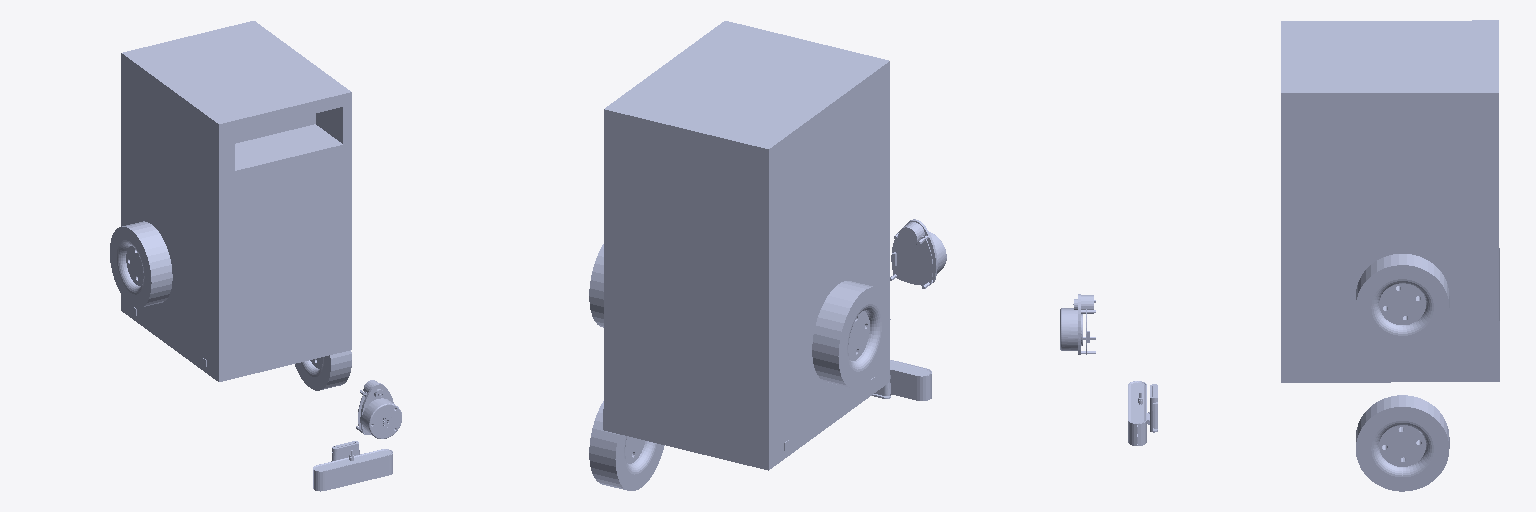
The robot description file, URDF, robot "my_urdf":
<?xml version="1.0" encoding="utf-8"?>
<!-- This URDF was automatically created by SolidWorks to URDF Exporter! Originally created by Stephen Brawner (brawner@gmail.com) 
     Commit Version: 1.6.0-4-g7f85cfe  Build Version: 1.6.7995.38578
     For more information, please see http://wiki.ros.org/sw_urdf_exporter -->
<robot
  name="my_urdf">
  <link
    name="base_footprint">
    <inertial>
      <origin
        xyz="-0.000309087484210829 -0.231774623204699 0.00490440684986201"
        rpy="0 0 0" />
      <mass
        value="45.829187990473" />
      <inertia
        ixx="1.3247027895633"
        ixy="-0.00259104265884517"
        ixz="-0.00186845178508046"
        iyy="0.773725974976496"
        iyz="0.0411131993367175"
        izz="1.15594469557223" />
    </inertial>
    <visual>
      <origin
        xyz="0 0 0"
        rpy="-1.57 0 0" />
      <geometry>
        <mesh
          filename="package://my_urdf/meshes/base_footprint.STL" />
      </geometry>
      <material
        name="">
        <color
          rgba="0.792156862745098 0.819607843137255 0.933333333333333 1" />
      </material>
    </visual>
    <collision>
      <origin
        xyz="0 0 0"
        rpy="-1.57 0 0" />
      <geometry>
        <mesh
          filename="package://my_urdf/meshes/base_footprint.STL" />
      </geometry>
    </collision>
  </link>
  <link
    name="front_right_link">
    <inertial>
      <origin
        xyz="-0.000233568800549525 0.00388215224949372 0.219535415875818"
        rpy="0 0 0" />
      <mass
        value="48.9383586991974" />
      <inertia
        ixx="1.56913843574981"
        ixy="-0.00154016843274957"
        ixz="0.00211023847469076"
        iyy="1.44343461593917"
        iyz="-0.0373053138883436"
        izz="0.925134371309634" />
    </inertial>
    <visual>
      <origin
        xyz="0 0 0"
        rpy="0 0 0" />
      <geometry>
        <mesh
          filename="package://my_urdf/meshes/front_right_link.STL" />
      </geometry>
      <material
        name="">
        <color
          rgba="1 1 1 1" />
      </material>
    </visual>
    <collision>
      <origin
        xyz="0 0 0"
        rpy="0 0 0" />
      <geometry>
        <mesh
          filename="package://my_urdf/meshes/front_right_link.STL" />
      </geometry>
    </collision>
  </link>
  <joint
    name="front_right_joint"
    type="revolute">
    <origin
      xyz="0 0 0"
      rpy="1.5707963267949 0 0" />
    <parent
      link="base_footprint" />
    <child
      link="front_right_link" />
    <axis
      xyz="-1 0 0" />
    <limit
      lower="0"
      upper="0"
      effort="0"
      velocity="0" />
  </joint>
  <link
    name="back_right_link">
    <inertial>
      <origin
        xyz="-0.188595 0.127041605346971 -0.0204638010416092"
        rpy="0 0 0" />
      <mass
        value="0.672106314046843" />
      <inertia
        ixx="0.0022358710882711"
        ixy="1.18669985448161E-20"
        ixz="4.77668952557858E-22"
        iyy="0.00121366878208572"
        iyz="1.72224751499544E-07"
        izz="0.0012137080517682" />
    </inertial>
    <visual>
      <origin
        xyz="0 0 0"
        rpy="0 0 0" />
      <geometry>
        <mesh
          filename="package://my_urdf/meshes/back_right_link.STL" />
      </geometry>
      <material
        name="">
        <color
          rgba="0.792156862745098 0.819607843137255 0.933333333333333 1" />
      </material>
    </visual>
    <collision>
      <origin
        xyz="0 0 0"
        rpy="0 0 0" />
      <geometry>
        <mesh
          filename="package://my_urdf/meshes/back_right_link.STL" />
      </geometry>
    </collision>
  </link>
  <joint
    name="back_right_joint"
    type="revolute">
    <origin
      xyz="0 0 0"
      rpy="1.5707963267949 0 0" />
    <parent
      link="base_footprint" />
    <child
      link="back_right_link" />
    <axis
      xyz="1 0 0" />
    <limit
      lower="0"
      upper="0"
      effort="0"
      velocity="0" />
  </joint>
  <link
    name="back_left_link">
    <inertial>
      <origin
        xyz="0.188595 0.126968611638409 -0.0203013899175233"
        rpy="0 0 0" />
      <mass
        value="0.672106314046843" />
      <inertia
        ixx="0.0022358710882711"
        ixy="-1.47749794835115E-20"
        ixz="-5.08498084480825E-21"
        iyy="0.001213728039212"
        iyz="-1.68751197173603E-07"
        izz="0.00121364879464192" />
    </inertial>
    <visual>
      <origin
        xyz="0 0 0"
        rpy="0 0 0" />
      <geometry>
        <mesh
          filename="package://my_urdf/meshes/back_left_link.STL" />
      </geometry>
      <material
        name="">
        <color
          rgba="0.792156862745098 0.819607843137255 0.933333333333333 1" />
      </material>
    </visual>
    <collision>
      <origin
        xyz="0 0 0"
        rpy="0 0 0" />
      <geometry>
        <mesh
          filename="package://my_urdf/meshes/back_left_link.STL" />
      </geometry>
    </collision>
  </link>
  <joint
    name="back_left_joint"
    type="revolute">
    <origin
      xyz="0 0 0"
      rpy="1.5707963267949 0 0" />
    <parent
      link="base_footprint" />
    <child
      link="back_left_link" />
    <axis
      xyz="1 0 0" />
    <limit
      lower="0"
      upper="0"
      effort="0"
      velocity="0" />
  </joint>
  <link
    name="front_left_link">
    <inertial>
      <origin
        xyz="0.188595 -0.127032541922988 -0.0202995473440542"
        rpy="0 0 0" />
      <mass
        value="0.672106314046843" />
      <inertia
        ixx="0.0022358710882711"
        ixy="-7.01375136593397E-22"
        ixz="-1.64781567191005E-20"
        iyy="0.00121367321204965"
        iyz="-1.72672243645025E-07"
        izz="0.00121370362180427" />
    </inertial>
    <visual>
      <origin
        xyz="0 0 0"
        rpy="0 0 0" />
      <geometry>
        <mesh
          filename="package://my_urdf/meshes/front_left_link.STL" />
      </geometry>
      <material
        name="">
        <color
          rgba="0.792156862745098 0.819607843137255 0.933333333333333 1" />
      </material>
    </visual>
    <collision>
      <origin
        xyz="0 0 0"
        rpy="0 0 0" />
      <geometry>
        <mesh
          filename="package://my_urdf/meshes/front_left_link.STL" />
      </geometry>
    </collision>
  </link>
  <joint
    name="front_left_joint"
    type="revolute">
    <origin
      xyz="0 0 0"
      rpy="1.5707963267949 0 0" />
    <parent
      link="base_footprint" />
    <child
      link="front_left_link" />
    <axis
      xyz="1 0 0" />
    <limit
      lower="0"
      upper="0"
      effort="0"
      velocity="0" />
  </joint>
  <link
    name="base_laser">
    <inertial>
      <origin
        xyz="0.00548449682867642 -0.00227401415844783 0.513423127732833"
        rpy="0 0 0" />
      <mass
        value="0.170611427740059" />
      <inertia
        ixx="0.000123166325080503"
        ixy="1.02818502430435E-07"
        ixz="3.96362803317277E-07"
        iyy="7.88356333895355E-05"
        iyz="2.02875674243666E-05"
        izz="0.00014078871798285" />
    </inertial>
    <visual>
      <origin
        xyz="0 0 0"
        rpy="0 0 0" />
      <geometry>
        <mesh
          filename="package://my_urdf/meshes/base_laser.STL" />
      </geometry>
      <material
        name="">
        <color
          rgba="0.792156862745098 0.819607843137255 0.933333333333333 1" />
      </material>
    </visual>
    <collision>
      <origin
        xyz="0 0 0"
        rpy="0 0 0" />
      <geometry>
        <mesh
          filename="package://my_urdf/meshes/base_laser.STL" />
      </geometry>
    </collision>
  </link>
  <joint
    name="baser_laser_joint"
    type="fixed">
    <origin
      xyz="0 0 0"
      rpy="1.5707963267949 0 0" />
    <parent
      link="base_footprint" />
    <child
      link="base_laser" />
    <axis
      xyz="0 0 0" />
  </joint>
  <link
    name="base_camera">
    <inertial>
      <origin
        xyz="0.00816075461061211 -0.156095902491559 0.405890121378547"
        rpy="0 0 0" />
      <mass
        value="0.220449863399617" />
      <inertia
        ixx="4.67299149630673E-05"
        ixy="-4.59364629457927E-08"
        ixz="5.50364242676411E-09"
        iyy="0.000406106730886343"
        iyz="-1.59318277923789E-07"
        izz="0.000425232439456108" />
    </inertial>
    <visual>
      <origin
        xyz="0 0 0"
        rpy="0 0 0" />
      <geometry>
        <mesh
          filename="package://my_urdf/meshes/base_camera.STL" />
      </geometry>
      <material
        name="">
        <color
          rgba="0.792156862745098 0.819607843137255 0.933333333333333 1" />
      </material>
    </visual>
    <collision>
      <origin
        xyz="0 0 0"
        rpy="0 0 0" />
      <geometry>
        <mesh
          filename="package://my_urdf/meshes/base_camera.STL" />
      </geometry>
    </collision>
  </link>
  <joint
    name="base_camera_joint"
    type="fixed">
    <origin
      xyz="0 0 0"
      rpy="1.5707963267949 0 0" />
    <parent
      link="base_footprint" />
    <child
      link="base_camera" />
    <axis
      xyz="0 0 0" />
  </joint>
</robot>

--- What the picture shows (computed from the rendered views, not written in the file) ---
Views: 3 orthographic renders of the robot side by side, from view 1: azimuth 30°, elevation 25°; view 2: azimuth 150°, elevation 25°; view 3: azimuth 270°, elevation 25°.
Robot: my_urdf — 7 links, 6 joints (4 revolute, 2 fixed); root link base_footprint; default pose: every joint at zero.
Visible links, largest first — view 1: base_footprint, back_right_link, base_camera, base_laser, front_left_link; view 2: base_footprint, back_right_link, front_left_link, base_laser, base_camera, back_left_link; view 3: base_footprint, front_left_link, back_left_link, base_camera, base_laser.
Boxes of the visible links, <box> form: base_footprint: <box>121,21,351,381</box>; back_right_link: <box>110,221,172,307</box>; base_camera: <box>313,441,392,491</box>; base_laser: <box>356,380,401,438</box>; front_left_link: <box>295,350,351,390</box>; base_footprint: <box>603,21,889,470</box>; back_right_link: <box>812,281,890,388</box>; front_left_link: <box>589,401,664,490</box>; base_laser: <box>890,219,946,288</box>; base_camera: <box>872,360,931,400</box>; back_left_link: <box>589,244,603,327</box>; base_footprint: <box>1281,20,1499,382</box>; front_left_link: <box>1356,395,1449,491</box>; back_left_link: <box>1356,254,1449,349</box>; base_camera: <box>1128,381,1157,445</box>; base_laser: <box>1060,294,1095,354</box>.
Bounding box of the posed robot: 0.4216 × 0.7137 × 0.6813 m (x, y, z).
Meshes: 7 distinct files referenced, 6 mesh visuals loaded (6 binary STL); not drawn: 1 (file found but could not be loaded).
